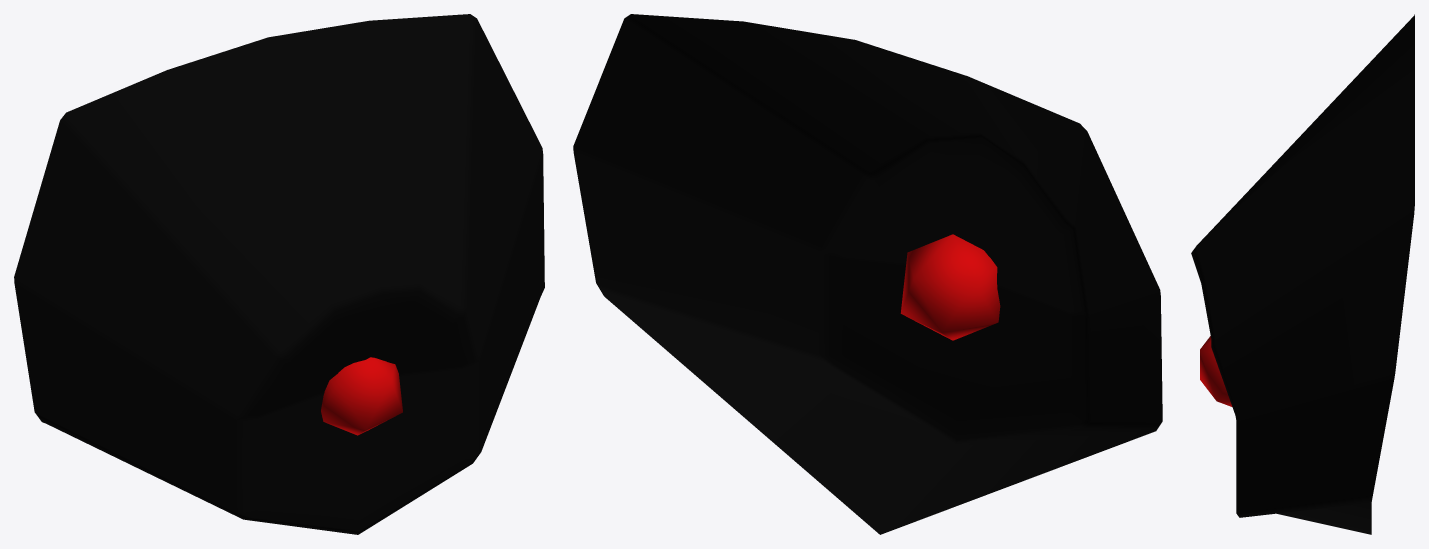
Rendered from Head_B.fbx.
3 views of the same model, side by side, from view 1: azimuth 30°, elevation 25°; view 2: azimuth 150°, elevation 25°; view 3: azimuth 270°, elevation 25° (orthographic). The views are drawn at different scales.
Parts seen in each view (by area): view 1: Head_B; view 2: Head_B; view 3: Head_B.
Part boxes in pixels (bbox=[...]): Head_B: bbox=[14, 14, 544, 534]; Head_B: bbox=[573, 14, 1162, 534]; Head_B: bbox=[1191, 14, 1414, 534].
Size of the model in its own units: 49.03 by 40.93 by 18.43.
